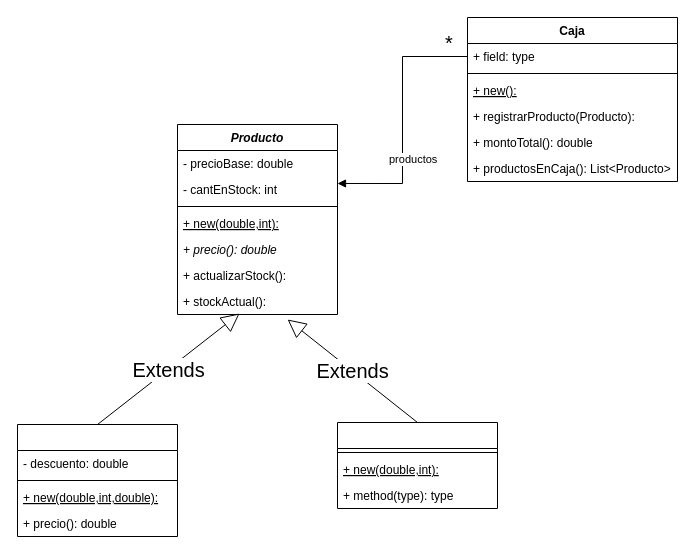
Some shapes in this 695 by 557 pixel diagram are drawn without their labels. The box of each missing label's shape, as (x1, y1, x2, y2) in pixels:
Cooperativa: (16, 424, 178, 536)
Tradicional: (336, 422, 498, 508)
